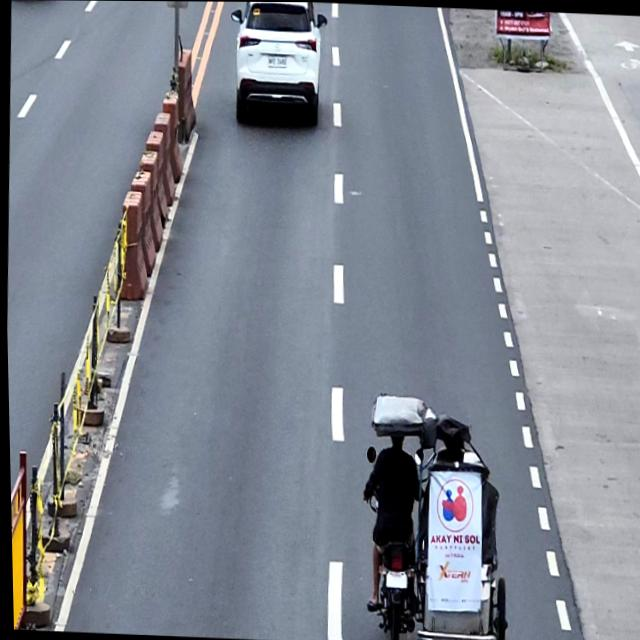Car: (225, 1, 330, 127)
License-Plate: (382, 569, 405, 588), (267, 54, 286, 68)
Tricycle: (352, 392, 513, 640)
